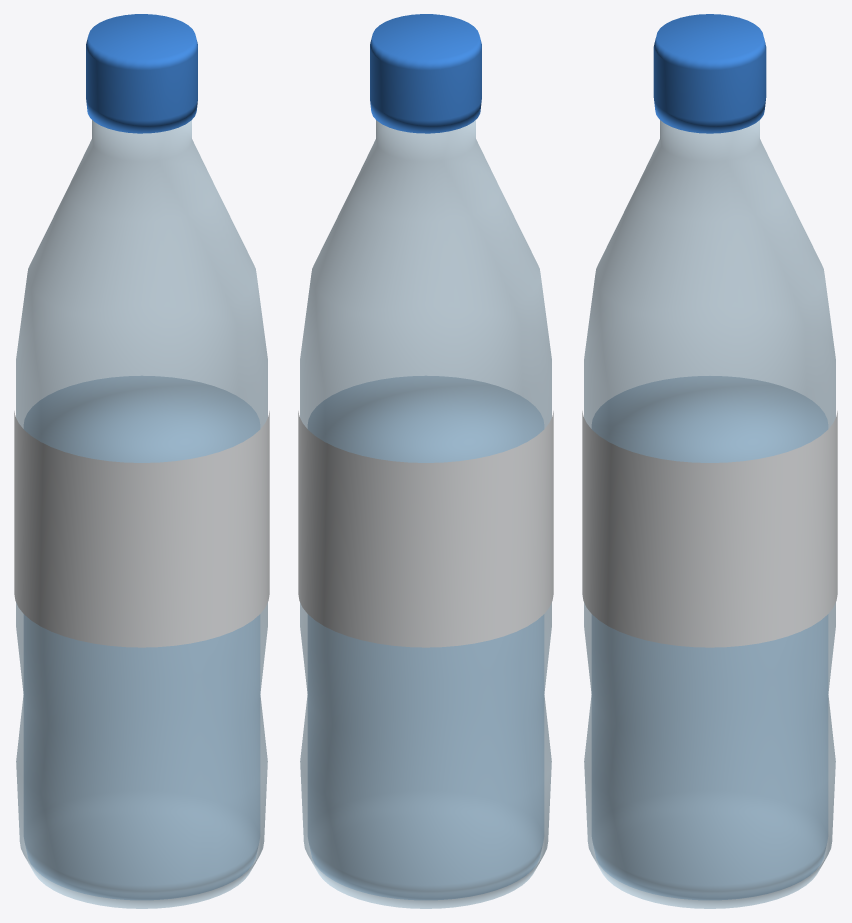
Rendered from water_bottle.glb.
The picture shows the model from 3 angles, left to right: view 1: azimuth 30°, elevation 25°; view 2: azimuth 150°, elevation 25°; view 3: azimuth 270°, elevation 25°; orthographic projection.
Visible parts, largest first — view 1: water_bottle; view 2: water_bottle; view 3: water_bottle.
Part boxes in pixels (x1,y1,x2,y2): water_bottle: (14,14,269,908); water_bottle: (298,14,553,908); water_bottle: (582,14,837,908).
Bounding box in the file's own units: 0.069 × 0.246 × 0.069.
